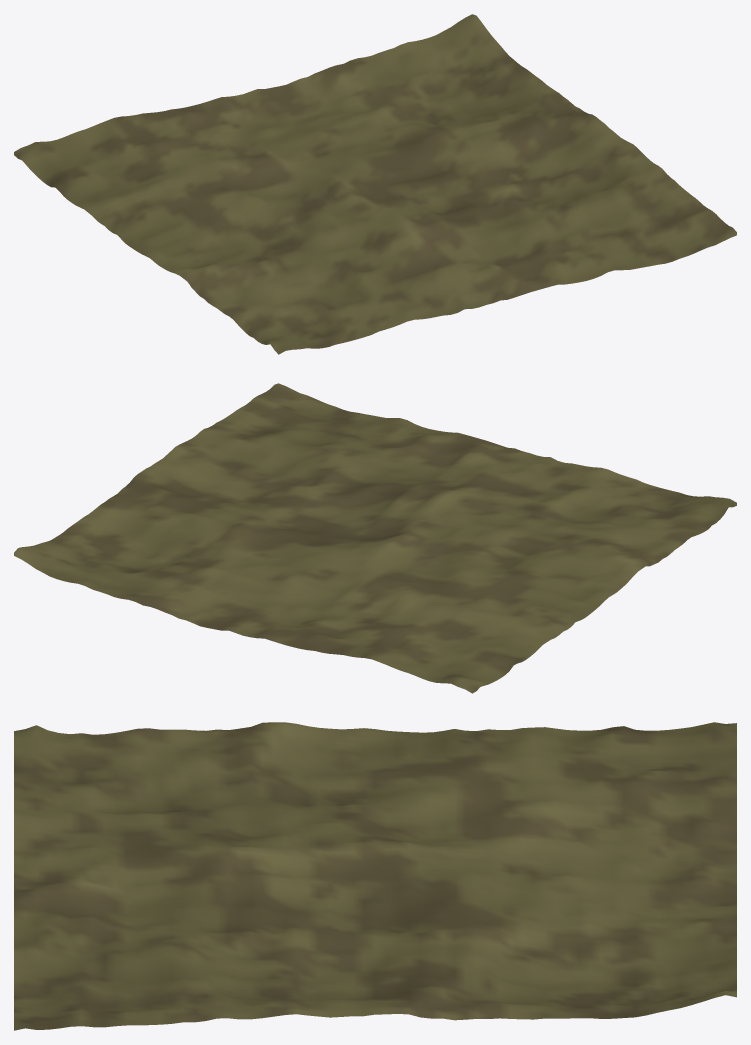
File: land_f_07_10.glb
3 views of the same model, one above another, from view 1: azimuth 30°, elevation 25°; view 2: azimuth 150°, elevation 25°; view 3: azimuth 270°, elevation 25° (orthographic). The views are drawn at different scales.
Parts seen in each view (by area): view 1: land_f_07_10; view 2: land_f_07_10; view 3: land_f_07_10.
Part boxes in pixels (x1=…): land_f_07_10: x1=14, y1=14, x2=736, y2=354; land_f_07_10: x1=14, y1=383, x2=736, y2=693; land_f_07_10: x1=14, y1=722, x2=736, y2=1030.
Bounding box in the file's own units: 3840 × 330 × 3840.
